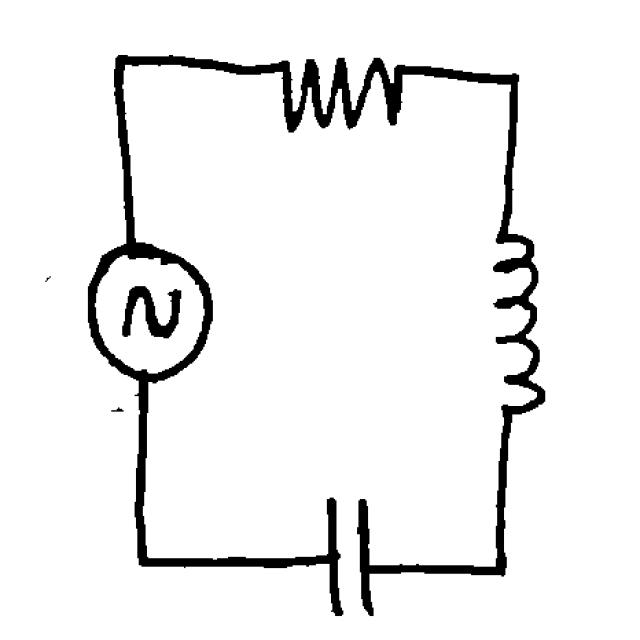ac: (74, 240, 224, 388), (314, 484, 394, 627)
inductor: (474, 214, 563, 430)
resistor: (242, 39, 423, 142)
